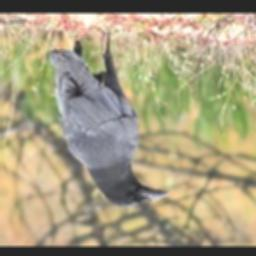Crow: (44, 27, 167, 208)
